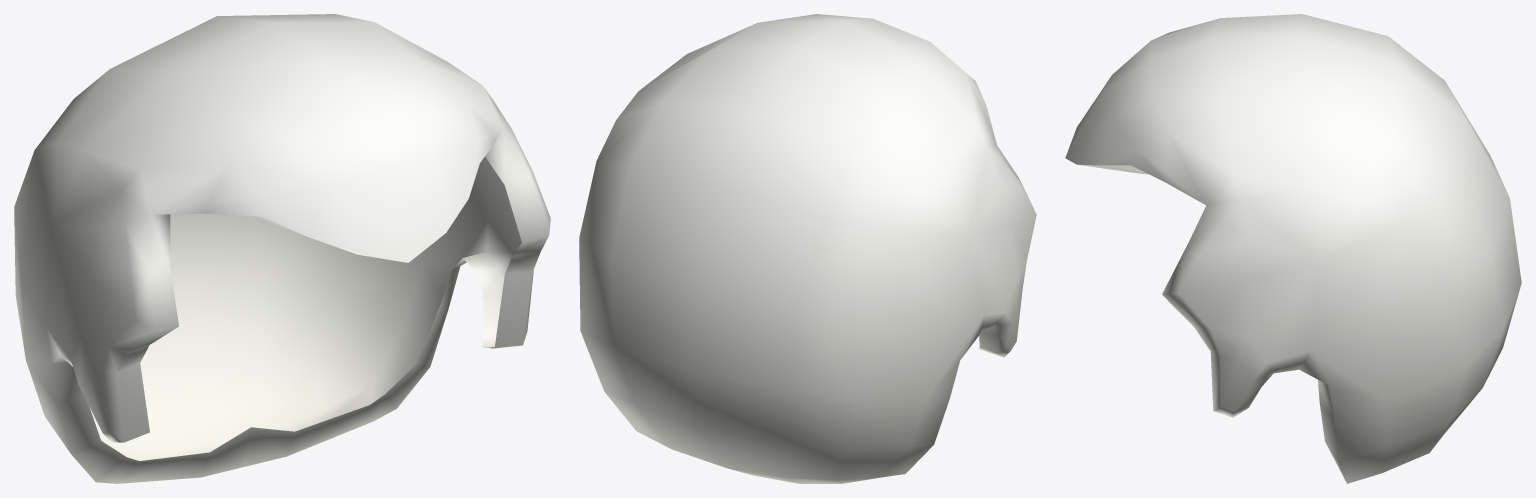
The model's file is Hair_White_2.fbx.
3 renders of one model, left to right at view 1: azimuth 30°, elevation 25°; view 2: azimuth 150°, elevation 25°; view 3: azimuth 270°, elevation 25°, orthographic. The views are drawn at different scales.
Parts seen in each view (by area): view 1: Hair_White_2; view 2: Hair_White_2; view 3: Hair_White_2.
Boxes of the visible parts, x1,y1,x2,y2 form: Hair_White_2: [14, 14, 550, 483]; Hair_White_2: [579, 14, 1036, 483]; Hair_White_2: [1065, 14, 1521, 483].
Size of the model in its own units: 52.84 by 52.69 by 53.88.
